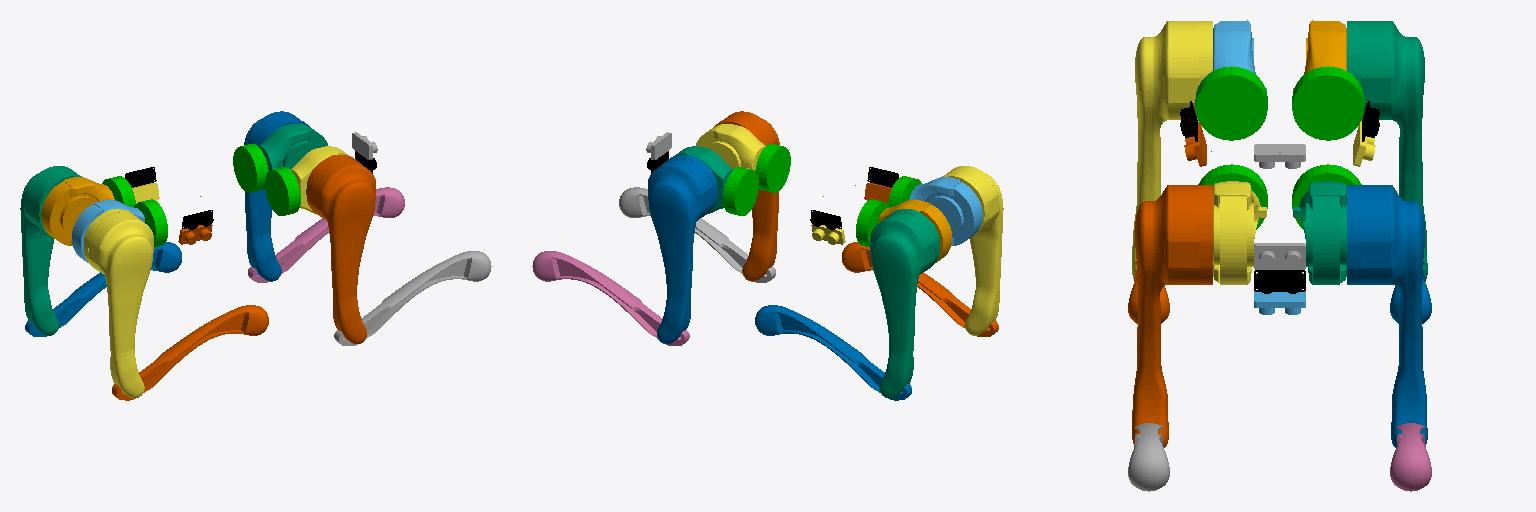
--- What the picture shows (computed from the rendered views, not written in the file) ---
3 views of the same robot in one strip: view 1: azimuth 30°, elevation 25°; view 2: azimuth 150°, elevation 25°; view 3: azimuth 270°, elevation 25° (orthographic).
Robot: go1 — 46 links, 45 joints (12 revolute, 33 fixed); root link base; default pose: all joints at 0 but 4 set to mid-range because 0 is outside their limits (FR_calf_joint = -1.85, FL_calf_joint = -1.85, RR_calf_joint = -1.85, RL_calf_joint = -1.85).
Visible links, largest first — view 1: RR_thigh, FR_thigh, RL_thigh, FL_thigh, RR_calf, FR_calf, RL_hip, FL_calf, RL_calf, FL_hip, FR_hip_rotor, FL_hip_rotor (+4 smaller); view 2: RL_thigh, FL_thigh, RR_thigh, FR_thigh, RL_calf, FL_calf, RR_hip, FR_calf, RR_calf, FR_hip, FL_hip_rotor, FR_hip_rotor (+4 smaller); view 3: FR_thigh, FL_thigh, RR_thigh, RL_thigh, FR_hip, FL_hip, RR_hip_rotor, RL_hip_rotor, FR_calf, FL_calf, RR_hip, RL_hip (+10 smaller).
Boxes of the visible links, x1,y1,x2,y2 form: RR_thigh: (84, 209, 153, 398); FR_thigh: (306, 155, 375, 343); RL_thigh: (20, 166, 81, 335); FL_thigh: (244, 111, 309, 281); RR_calf: (112, 305, 268, 400); FR_calf: (334, 251, 491, 345); RL_hip: (41, 177, 114, 245); FL_calf: (248, 187, 404, 282); RL_calf: (25, 242, 181, 336); FL_hip: (258, 124, 327, 170); FR_hip_rotor: (265, 167, 300, 215); FL_hip_rotor: (233, 144, 268, 192); RL_thigh: (870, 209, 939, 398); FL_thigh: (648, 155, 717, 343); RR_thigh: (942, 166, 1003, 335); FR_thigh: (714, 111, 779, 281); RL_calf: (755, 305, 911, 400); FL_calf: (532, 251, 689, 345); RR_hip: (909, 177, 982, 245); FR_calf: (619, 187, 775, 282); RR_calf: (842, 242, 998, 336); FR_hip: (696, 124, 765, 170); FL_hip_rotor: (723, 167, 758, 215); FR_hip_rotor: (755, 144, 790, 192); FR_thigh: (1132, 185, 1212, 447); FL_thigh: (1347, 185, 1427, 447); RR_thigh: (1132, 21, 1212, 278); RL_thigh: (1347, 21, 1427, 278); FR_hip: (1213, 181, 1266, 284); FL_hip: (1293, 181, 1346, 284); RR_hip_rotor: (1195, 66, 1267, 140); RL_hip_rotor: (1292, 66, 1364, 140); FR_calf: (1128, 423, 1169, 491); FL_calf: (1390, 423, 1431, 491); RR_hip: (1213, 20, 1266, 90); RL_hip: (1293, 20, 1346, 90).
Size in the robot's own frame: 0.6511 by 0.294 by 0.2796 metres.
Meshes: 7 distinct files referenced, 20 mesh visuals loaded (6 binary STL); not drawn: 1 (reference not matched to a file when rendering).

robot.urdf — go1:
<?xml version="1.0" ?>
<!-- =================================================================================== -->
<!-- |    This document was autogenerated by xacro from robot.xacro                    | -->
<!-- |    EDITING THIS FILE BY HAND IS NOT RECOMMENDED                                 | -->
<!-- =================================================================================== -->
<robot name="go1">
  <material name="black">
    <color rgba="0.0 0.0 0.0 1.0"/>
  </material>
  <material name="blue">
    <color rgba="0.0 0.0 0.8 1.0"/>
  </material>
  <material name="green">
    <color rgba="0.0 0.8 0.0 1.0"/>
  </material>
  <material name="grey">
    <color rgba="0.2 0.2 0.2 1.0"/>
  </material>
  <material name="silver">
    <color rgba="0.9137254901960784 0.9137254901960784 0.8470588235294118 1.0"/>
  </material>
  <material name="orange">
    <color rgba="1.0 0.4235294117647059 0.0392156862745098 1.0"/>
  </material>
  <material name="brown">
    <color rgba="0.8705882352941177 0.8117647058823529 0.7647058823529411 1.0"/>
  </material>
  <material name="red">
    <color rgba="0.8 0.0 0.0 1.0"/>
  </material>
  <material name="white">
    <color rgba="1.0 1.0 1.0 1.0"/>
  </material>
  <!-- ros_control plugin -->
  <gazebo>
    <plugin filename="libgazebo_ros_control.so" name="gazebo_ros_control">
      <robotNamespace>/go1_gazebo</robotNamespace>
      <robotSimType>gazebo_ros_control/DefaultRobotHWSim</robotSimType>
    </plugin>
  </gazebo>
  <!-- Show the trajectory of trunk center. -->
  <gazebo>
    <plugin filename="libLinkPlot3DPlugin.so" name="3dplot">
      <frequency>10</frequency>
      <plot>
        <link>base</link>
        <pose>0 0 0 0 0 0</pose>
        <material>Gazebo/Yellow</material>
      </plot>
    </plugin>
  </gazebo>
  <!-- Show the trajectory of foot. You can add another trajectory about another foot. -->
  <!-- <gazebo>
        <plugin name="3dplot" filename="libLinkPlot3DPlugin.so">
            <frequency>100</frequency>
            <plot>
                <link>FL_foot</link>
                <pose>0 0 0 0 0 0</pose>
                <material>Gazebo/Green</material>
            </plot>
        </plugin>
    </gazebo> -->
  <gazebo>
    <plugin filename="libgazebo_ros_force.so" name="gazebo_ros_force">
      <bodyName>trunk</bodyName>
      <topicName>/apply_force/trunk</topicName>
    </plugin>
  </gazebo>
  <gazebo reference="imu_link">
    <gravity>true</gravity>
    <sensor name="imu_sensor" type="imu">
      <always_on>true</always_on>
      <update_rate>1000</update_rate>
      <visualize>true</visualize>
      <topic>__default_topic__</topic>
      <plugin filename="libgazebo_ros_imu_sensor.so" name="imu_plugin">
        <topicName>trunk_imu</topicName>
        <bodyName>imu_link</bodyName>
        <updateRateHZ>1000.0</updateRateHZ>
        <gaussianNoise>0.0</gaussianNoise>
        <xyzOffset>0 0 0</xyzOffset>
        <rpyOffset>0 0 0</rpyOffset>
        <frameName>imu_link</frameName>
      </plugin>
      <pose>0 0 0 0 0 0</pose>
    </sensor>
  </gazebo>
  <!-- Depth camera -->
  <!-- <gazebo>
        <plugin name="camera_plugin" filename="libgazebo_ros_openni_kinect.so">
            <baseline>0.025</baseline>
            <always_on>true</always_on>
            <updateRate>0.0</updateRate>
            <cameraName>unitree_camera_left</cameraName>
            <frameName>depthCamera_link_left</frameName>
            <imageTopicName>rgb/imageRaw_left</imageTopicName>
            <depthImageTopicName>depth/imageRaw_left</depthImageTopicName>
            <pointCloudTopicName>depth/points_left</pointCloudTopicName>
            <cameraInfoTopicName>rgb/cameraInfo_left</cameraInfoTopicName>              
            <depthImageCameraInfoTopicName>depth/cameraInfo_left</depthImageCameraInfoTopicName>            
            <pointCloudCutoff>0.1</pointCloudCutoff>                
            <pointCloudCutoffMax>1.5</pointCloudCutoffMax>                
            <distortionK1>0.0</distortionK1>
            <distortionK2>0.0</distortionK2>
            <distortionK3>0.0</distortionK3>
            <distortionT1>0.0</distortionT1>
            <distortionT2>0.0</distortionT2>
            <CxPrime>0.0</CxPrime>
            <Cx>0.0045</Cx>
            <Cy>0.0039</Cy>
            <focalLength>0.004</focalLength>
            <hackBaseline>0.0</hackBaseline>
        </plugin>
    </gazebo> -->
  <!-- <gazebo reference="depthCamera_link_left">
        <sensor name="unitree_camera_left" type="depth_camera">
            <update_rate>16</update_rate>
            <always_on>true</always_on>
            <visualize>true</visualize>
            <camera>
                <horizontal_fov>2.094</horizontal_fov>
                <image>
                    <width>928</width>
                    <height>800</height>
                    <format>R8G8B8</format>
                </image>
                <depth_camera></depth_camera>
                <clip>
                    <near>0.1</near>
                    <far>100</far>
                </clip>
            </camera>
            <plugin name="camera_plugin" filename="libgazebo_ros_openni_kinect.so">
                <baseline>0.025</baseline>
                <always_on>true</always_on>
                <updateRate>0.0</updateRate>
                <cameraName>unitree_camera_left</cameraName>
                <frameName>depthCamera_link_left</frameName>
                <imageTopicName>rgb/imageRaw_left</imageTopicName>
                <depthImageTopicName>depth/imageRaw_left</depthImageTopicName>
                <pointCloudTopicName>depth/points_left</pointCloudTopicName>
                <cameraInfoTopicName>rgb/cameraInfo_left</cameraInfoTopicName>              
                <depthImageCameraInfoTopicName>depth/cameraInfo_left</depthImageCameraInfoTopicName>            
                <pointCloudCutoff>0.1</pointCloudCutoff>                
                <pointCloudCutoffMax>1.5</pointCloudCutoffMax>                
                <distortionK1>0.0</distortionK1>
                <distortionK2>0.0</distortionK2>
                <distortionK3>0.0</distortionK3>
                <distortionT1>0.0</distortionT1>
                <distortionT2>0.0</distortionT2>
                <CxPrime>0.0</CxPrime>
                <Cx>0.0045</Cx>
                <Cy>0.0039</Cy>
                <focalLength>0.004</focalLength>
                <hackBaseline>0.0</hackBaseline>
            </plugin>
        </sensor>
    </gazebo> -->
  <gazebo reference="depthCamera_link_left">
    <sensor name="camera_link_camera" type="depth">
      <update_rate>20</update_rate>
      <camera>
        <horizontal_fov>1.047198</horizontal_fov>
        <image>
          <width>640</width>
          <height>480</height>
          <format>R8G8B8</format>
        </image>
        <clip>
          <near>0.05</near>
          <far>3</far>
        </clip>
      </camera>
      <plugin filename="libgazebo_ros_openni_kinect.so" name="camera_link_controller">
        <baseline>0.2</baseline>
        <alwaysOn>true</alwaysOn>
        <updateRate>1.0</updateRate>
        <cameraName>camera_link_ir</cameraName>
        <imageTopicName>/camera_link/color/image_raw</imageTopicName>
        <cameraInfoTopicName>/camera_link/color/camera_info</cameraInfoTopicName>
        <depthImageTopicName>/camera_link/depth/image_raw</depthImageTopicName>
        <depthImageInfoTopicName>/camera_link/depth/camera_info</depthImageInfoTopicName>
        <pointCloudTopicName>/camera_link/depth/points</pointCloudTopicName>
        <frameName>depthCamera_link_left</frameName>
        <pointCloudCutoff>0.5</pointCloudCutoff>
        <pointCloudCutoffMax>3.0</pointCloudCutoffMax>
        <distortionK1>0.00000001</distortionK1>
        <distortionK2>0.00000001</distortionK2>
        <distortionK3>0.00000001</distortionK3>
        <distortionT1>0.00000001</distortionT1>
        <distortionT2>0.00000001</distortionT2>
        <CxPrime>0</CxPrime>
        <Cx>0</Cx>
        <Cy>0</Cy>
        <focalLength>0</focalLength>
        <hackBaseline>0</hackBaseline>
      </plugin>
    </sensor>
  </gazebo>
  <!-- Foot contacts. -->
  <gazebo reference="FR_calf">
    <sensor name="FR_foot_contact" type="contact">
      <update_rate>100</update_rate>
      <plugin filename="libunitreeFootContactPlugin.so" name="contactPlugin"/>
      <contact>
        <collision>FR_calf_fixed_joint_lump__FR_foot_collision_1</collision>
      </contact>
    </sensor>
  </gazebo>
  <gazebo reference="FL_calf">
    <sensor name="FL_foot_contact" type="contact">
      <update_rate>100</update_rate>
      <plugin filename="libunitreeFootContactPlugin.so" name="contactPlugin"/>
      <contact>
        <collision>FL_calf_fixed_joint_lump__FL_foot_collision_1</collision>
      </contact>
    </sensor>
  </gazebo>
  <gazebo reference="RR_calf">
    <sensor name="RR_foot_contact" type="contact">
      <update_rate>100</update_rate>
      <plugin filename="libunitreeFootContactPlugin.so" name="contactPlugin"/>
      <contact>
        <collision>RR_calf_fixed_joint_lump__RR_foot_collision_1</collision>
      </contact>
    </sensor>
  </gazebo>
  <gazebo reference="RL_calf">
    <sensor name="RL_foot_contact" type="contact">
      <update_rate>100</update_rate>
      <plugin filename="libunitreeFootContactPlugin.so" name="contactPlugin"/>
      <contact>
        <collision>RL_calf_fixed_joint_lump__RL_foot_collision_1</collision>
      </contact>
    </sensor>
  </gazebo>
  <!-- Visualization of Foot contacts. -->
  <gazebo reference="FR_foot">
    <visual>
      <plugin filename="libunitreeDrawForcePlugin.so" name="drawForcePlugin">
        <topicName>FR_foot_contact</topicName>
      </plugin>
    </visual>
  </gazebo>
  <gazebo reference="FL_foot">
    <visual>
      <plugin filename="libunitreeDrawForcePlugin.so" name="drawForcePlugin">
        <topicName>FL_foot_contact</topicName>
      </plugin>
    </visual>
  </gazebo>
  <gazebo reference="RR_foot">
    <visual>
      <plugin filename="libunitreeDrawForcePlugin.so" name="drawForcePlugin">
        <topicName>RR_foot_contact</topicName>
      </plugin>
    </visual>
  </gazebo>
  <gazebo reference="RL_foot">
    <visual>
      <plugin filename="libunitreeDrawForcePlugin.so" name="drawForcePlugin">
        <topicName>RL_foot_contact</topicName>
      </plugin>
    </visual>
  </gazebo>
  <gazebo reference="base">
    <material>Gazebo/Green</material>
    <turnGravityOff>false</turnGravityOff>
  </gazebo>
  <gazebo reference="trunk">
    <mu1>0.2</mu1>
    <mu2>0.2</mu2>
    <kp value="1000000.0"/>
    <kd value="1.0"/>
  </gazebo>
  <gazebo reference="stick_link">
    <mu1>0.2</mu1>
    <mu2>0.2</mu2>
    <material>Gazebo/White</material>
  </gazebo>
  <gazebo reference="imu_link">
    <mu1>0.2</mu1>
    <mu2>0.2</mu2>
    <material>Gazebo/Red</material>
  </gazebo>
  <!-- FL leg -->
  <gazebo reference="FL_hip">
    <mu1>0.2</mu1>
    <mu2>0.2</mu2>
    <material>Gazebo/DarkGrey</material>
  </gazebo>
  <gazebo reference="FL_thigh">
    <mu1>0.2</mu1>
    <mu2>0.2</mu2>
    <self_collide>1</self_collide>
    <material>Gazebo/DarkGrey</material>
    <kp value="1000000.0"/>
    <kd value="1.0"/>
  </gazebo>
  <gazebo reference="FL_calf">
    <mu1>0.2</mu1>
    <mu2>0.2</mu2>
    <self_collide>1</self_collide>
  </gazebo>
  <gazebo reference="FL_foot">
    <mu1>0.6</mu1>
    <mu2>0.6</mu2>
    <self_collide>1</self_collide>
    <material>Gazebo/DarkGrey</material>
    <kp value="1000000.0"/>
    <kd value="1.0"/>
  </gazebo>
  <!-- FR leg -->
  <gazebo reference="FR_hip">
    <mu1>0.2</mu1>
    <mu2>0.2</mu2>
    <material>Gazebo/DarkGrey</material>
  </gazebo>
  <gazebo reference="FR_thigh">
    <mu1>0.2</mu1>
    <mu2>0.2</mu2>
    <self_collide>1</self_collide>
    <material>Gazebo/DarkGrey</material>
    <kp value="1000000.0"/>
    <kd value="1.0"/>
  </gazebo>
  <gazebo reference="FR_calf">
    <mu1>0.2</mu1>
    <mu2>0.2</mu2>
    <self_collide>1</self_collide>
  </gazebo>
  <gazebo reference="FR_foot">
    <mu1>0.6</mu1>
    <mu2>0.6</mu2>
    <self_collide>1</self_collide>
    <material>Gazebo/DarkGrey</material>
    <kp value="1000000.0"/>
    <kd value="1.0"/>
  </gazebo>
  <!-- RL leg -->
  <gazebo reference="RL_hip">
    <mu1>0.2</mu1>
    <mu2>0.2</mu2>
    <material>Gazebo/DarkGrey</material>
  </gazebo>
  <gazebo reference="RL_thigh">
    <mu1>0.2</mu1>
    <mu2>0.2</mu2>
    <self_collide>1</self_collide>
    <material>Gazebo/DarkGrey</material>
    <kp value="1000000.0"/>
    <kd value="1.0"/>
  </gazebo>
  <gazebo reference="RL_calf">
    <mu1>0.2</mu1>
    <mu2>0.2</mu2>
    <self_collide>1</self_collide>
  </gazebo>
  <gazebo reference="RL_foot">
    <mu1>0.6</mu1>
    <mu2>0.6</mu2>
    <self_collide>1</self_collide>
    <material>Gazebo/DarkGrey</material>
    <kp value="1000000.0"/>
    <kd value="1.0"/>
  </gazebo>
  <!-- RR leg -->
  <gazebo reference="RR_hip">
    <mu1>0.2</mu1>
    <mu2>0.2</mu2>
    <material>Gazebo/DarkGrey</material>
  </gazebo>
  <gazebo reference="RR_thigh">
    <mu1>0.2</mu1>
    <mu2>0.2</mu2>
    <self_collide>1</self_collide>
    <material>Gazebo/DarkGrey</material>
    <kp value="1000000.0"/>
    <kd value="1.0"/>
  </gazebo>
  <gazebo reference="RR_calf">
    <mu1>0.2</mu1>
    <mu2>0.2</mu2>
    <self_collide>1</self_collide>
  </gazebo>
  <gazebo reference="RR_foot">
    <mu1>0.6</mu1>
    <mu2>0.6</mu2>
    <self_collide>1</self_collide>
    <material>Gazebo/DarkGrey</material>
    <kp value="1000000.0"/>
    <kd value="1.0"/>
  </gazebo>
  <!-- <xacro:include filename="$(find go1_gazebo)/launch/stairs.urdf.xacro"/> -->
  <!-- <xacro:stairs stairs="15" xpos="0" ypos="0" zpos="0" /> -->
  <!-- Rotor related joint and link is only for demonstrate location. -->
  <!-- Actually, the rotor will rotate and the joint is not fixed. Reduction ratio should be considered. -->
  <!-- Debug mode will hung up the robot, use "true" or "false" to switch it. -->
  <!-- <xacro:if value="$(arg DEBUG)">
        <link name="world"/>
        <joint name="base_static_joint" type="fixed">
            <origin rpy="0 0 0" xyz="0 0 0"/>
            <parent link="world"/>
            <child link="base"/>
        </joint>
    </xacro:if>  -->
  <link name="base">
    <visual>
      <origin rpy="0 0 0" xyz="0 0 0"/>
      <geometry>
        <box size="0.001 0.001 0.001"/>
      </geometry>
    </visual>
  </link>
  <joint name="floating_base" type="fixed">
    <origin rpy="0 0 0" xyz="0 0 0"/>
    <parent link="base"/>
    <child link="trunk"/>
  </joint>
  <link name="trunk">
    <visual>
      <origin rpy="0 0 0" xyz="0 0 0"/>
      <geometry>
        <mesh filename="package://GO1/meshes/trunk.stl" scale="1 1 1"/>
      </geometry>
      <!-- <material name="orange"/> -->
    </visual>
    <collision>
      <origin rpy="0 0 0" xyz="0 0 0"/>
      <geometry>
        <box size="0.3762 0.0935 0.114"/>
      </geometry>
    </collision>
    <inertial>
      <origin rpy="0 0 0" xyz="0.0223 0.002 -0.0005"/>
      <mass value="5.204"/>
      <inertia ixx="0.0168128557" ixy="-0.0002296769" ixz="-0.0002945293" iyy="0.063009565" iyz="-4.18731e-05" izz="0.0716547275"/>
    </inertial>
  </link>
  <joint name="imu_joint" type="fixed">
    <parent link="trunk"/>
    <child link="imu_link"/>
    <origin rpy="0 0 0" xyz="-0.01592 -0.06659 -0.00617"/>
  </joint>
  <link name="imu_link">
    <inertial>
      <mass value="0.001"/>
      <origin rpy="0 0 0" xyz="0 0 0"/>
      <inertia ixx="0.0001" ixy="0" ixz="0" iyy="0.0001" iyz="0" izz="0.0001"/>
    </inertial>
    <visual>
      <origin rpy="0 0 0" xyz="0 0 0"/>
      <geometry>
        <box size="0.001 0.001 0.001"/>
      </geometry>
      <!-- <material name="red"/> -->
    </visual>
    <collision>
      <origin rpy="0 0 0" xyz="0 0 0"/>
      <geometry>
        <box size=".001 .001 .001"/>
      </geometry>
    </collision>
  </link>
  <joint name="FR_hip_joint" type="revolute">
    <origin rpy="0 0 0" xyz="0.1881 -0.04675 0"/>
    <parent link="trunk"/>
    <child link="FR_hip"/>
    <axis xyz="1 0 0"/>
    <dynamics damping="0.0" friction="0.0"/>
    <limit effort="23.7" lower="-0.863" upper="0.863" velocity="30.1"/>
  </joint>
  <joint name="FR_hip_rotor_joint" type="fixed">
    <origin rpy="0 0 0" xyz="0.11215 -0.04675 0"/>
    <parent link="trunk"/>
    <child link="FR_hip_rotor"/>
  </joint>
  <link name="FR_hip">
    <visual>
      <origin rpy="3.141592653589793 0 0" xyz="0 0 0"/>
      <geometry>
        <mesh filename="package://GO1/meshes/hip.stl" scale="1 1 1"/>
      </geometry>
      <!-- <material name="orange"/> -->
    </visual>
    <collision>
      <origin rpy="1.5707963267948966 0 0" xyz="0 -0.08 0"/>
      <geometry>
        <cylinder length="0.04" radius="0.046"/>
      </geometry>
    </collision>
    <inertial>
      <origin rpy="0 0 0" xyz="-0.005657 0.008752 -0.000102"/>
      <mass value="0.591"/>
      <inertia ixx="0.000334008405" ixy="1.0826066e-05" ixz="1.290732e-06" iyy="0.000619101213" iyz="-1.643194e-06" izz="0.00040057614"/>
    </inertial>
  </link>
  <link name="FR_hip_rotor">
    <visual>
      <origin rpy="0 1.5707963267948966 0" xyz="0 0 0"/>
      <geometry>
        <cylinder length="0.02" radius="0.035"/>
      </geometry>
      <material name="green"/>
    </visual>
    <collision>
      <origin rpy="0 1.5707963267948966 0" xyz="0 0 0"/>
      <geometry>
        <cylinder length="0.02" radius="0.035"/>
      </geometry>
    </collision>
    <inertial>
      <origin rpy="0 0 0" xyz="0.0 0.0 0.0"/>
      <mass value="0.089"/>
      <inertia ixx="0.000111842" ixy="0.0" ixz="0.0" iyy="5.9647e-05" iyz="0.0" izz="5.9647e-05"/>
    </inertial>
  </link>
  <joint name="FR_thigh_joint" type="revolute">
    <origin rpy="0 0 0" xyz="0 -0.08 0"/>
    <parent link="FR_hip"/>
    <child link="FR_thigh"/>
    <axis xyz="0 1 0"/>
    <dynamics damping="0.0" friction="0.0"/>
    <limit effort="23.7" lower="-0.686" upper="4.501" velocity="30.1"/>
  </joint>
  <joint name="FR_thigh_rotor_joint" type="fixed">
    <origin rpy="0 0 0" xyz="0.0 0.00015 0"/>
    <parent link="FR_hip"/>
    <child link="FR_thigh_rotor"/>
  </joint>
  <link name="FR_thigh">
    <visual>
      <origin rpy="0 0 0" xyz="0 0 0"/>
      <geometry>
        <mesh filename="package://GO1/meshes/thigh_mirror.stl" scale="1 1 1"/>
      </geometry>
      <!-- <material name="orange"/> -->
    </visual>
    <collision>
      <origin rpy="0 1.5707963267948966 0" xyz="0 0 -0.1065"/>
      <geometry>
        <box size="0.213 0.0245 0.034"/>
      </geometry>
    </collision>
    <inertial>
      <origin rpy="0 0 0" xyz="-0.003342 0.018054 -0.033451"/>
      <mass value="0.92"/>
      <inertia ixx="0.004431760472" ixy="-5.7496807e-05" ixz="-0.000218457134" iyy="0.004485671726" iyz="-0.000572001265" izz="0.000740309489"/>
    </inertial>
  </link>
  <link name="FR_thigh_rotor">
    <visual>
      <origin rpy="1.5707963267948966 0 0" xyz="0 0 0"/>
      <geometry>
        <cylinder length="0.02" radius="0.035"/>
      </geometry>
      <material name="green"/>
    </visual>
    <collision>
      <origin rpy="1.5707963267948966 0 0" xyz="0 0 0"/>
      <geometry>
        <cylinder length="0.02" radius="0.035"/>
      </geometry>
    </collision>
    <inertial>
      <origin rpy="0 0 0" xyz="0.0 0.0 0.0"/>
      <mass value="0.089"/>
      <inertia ixx="5.9647e-05" ixy="0.0" ixz="0.0" iyy="0.000111842" iyz="0.0" izz="5.9647e-05"/>
    </inertial>
  </link>
  <joint name="FR_calf_joint" type="revolute">
    <origin rpy="0 0 0" xyz="0 0 -0.213"/>
    <parent link="FR_thigh"/>
    <child link="FR_calf"/>
    <axis xyz="0 1 0"/>
    <dynamics damping="0.0" friction="0.0"/>
    <limit effort="35.55" lower="-2.818" upper="-0.888" velocity="20.06"/>
  </joint>
  <joint name="FR_calf_rotor_joint" type="fixed">
    <origin rpy="0 0 0" xyz="0.0 0.03235 0"/>
    <parent link="FR_thigh"/>
    <child link="FR_calf_rotor"/>
  </joint>
  <link name="FR_calf">
    <visual>
      <origin rpy="0 0 0" xyz="0 0 0"/>
      <geometry>
        <mesh filename="package://GO1/meshes/calf.stl" scale="1 1 1"/>
      </geometry>
      <!-- <material name="orange"/> -->
    </visual>
    <collision>
      <origin rpy="0 1.5707963267948966 0" xyz="0 0 -0.1065"/>
      <geometry>
        <box size="0.213 0.016 0.016"/>
      </geometry>
    </collision>
    <inertial>
      <origin rpy="0 0 0" xyz="0.006197 0.001408 -0.116695"/>
      <mass value="0.135862"/>
      <inertia ixx="0.001088793059" ixy="-2.55679e-07" ixz="7.117814e-06" iyy="0.001100428748" iyz="2.077264e-06" izz="2.4787446e-05"/>
    </inertial>
  </link>
  <link name="FR_calf_rotor">
    <visual>
      <origin rpy="1.5707963267948966 0 0" xyz="0 0 0"/>
      <geometry>
        <cylinder length="0.02" radius="0.035"/>
      </geometry>
      <material name="green"/>
    </visual>
    <collision>
      <origin rpy="1.5707963267948966 0 0" xyz="0 0 0"/>
      <geometry>
        <cylinder length="0.02" radius="0.035"/>
      </geometry>
    </collision>
    <inertial>
      <origin rpy="0 0 0" xyz="0.0 0.0 0.0"/>
      <mass value="0.089"/>
      <inertia ixx="5.9647e-05" ixy="0.0" ixz="0.0" iyy="0.000111842" iyz="0.0" izz="5.9647e-05"/>
    </inertial>
  </link>
  <joint name="FR_foot_fixed" type="fixed">
    <origin rpy="0 0 0" xyz="0 0 -0.213"/>
    <parent link="FR_calf"/>
    <child link="FR_foot"/>
  </joint>
  <link name="FR_foot">
    <visual>
      <origin rpy="0 0 0" xyz="0 0 0"/>
      <geometry>
        <sphere radius="0.01"/>
      </geometry>
      <!-- <material name="orange"/> -->
    </visual>
    <collision>
      <origin rpy="0 0 0" xyz="0 0 0"/>
      <geometry>
        <sphere radius="0.02"/>
      </geometry>
    </collision>
    <inertial>
      <mass value="0.06"/>
      <inertia ixx="9.600000000000001e-06" ixy="0.0" ixz="0.0" iyy="9.600000000000001e-06" iyz="0.0" izz="9.600000000000001e-06"/>
    </inertial>
  </link>
  <transmission name="FR_hip_tran">
    <type>transmission_interface/SimpleTransmission</type>
    <joint name="FR_hip_joint">
      <hardwareInterface>hardware_interface/EffortJointInterface</hardwareInterface>
    </joint>
    <actuator name="FR_hip_motor">
      <hardwareInterface>hardware_interface/EffortJointInterface</hardwareInterface>
      <mechanicalReduction>1</mechanicalReduction>
    </actuator>
  </transmission>
  <transmission name="FR_thigh_tran">
    <type>transmission_interface/SimpleTransmission</type>
    <joint name="FR_thigh_joint">
      <hardwareInterface>hardware_interface/EffortJointInterface</hardwareInterface>
    </joint>
    <actuator name="FR_thigh_motor">
      <hardwareInterface>hardware_interface/EffortJointInterface</hardwareInterface>
      <mechanicalReduction>1</mechanicalReduction>
    </actuator>
  </transmission>
  <transmission name="FR_calf_tran">
    <type>transmission_interface/SimpleTransmission</type>
    <joint name="FR_calf_joint">
      <hardwareInterface>hardware_interface/EffortJointInterface</hardwareInterface>
    </joint>
    <actuator name="FR_calf_motor">
      <hardwareInterface>hardware_interface/EffortJointInterface</hardwareInterface>
      <mechanicalReduction>1</mechanicalReduction>
    </actuator>
  </transmission>
  <joint name="FL_hip_joint" type="revolute">
    <origin rpy="0 0 0" xyz="0.1881 0.04675 0"/>
    <parent link="trunk"/>
    <child link="FL_hip"/>
    <axis xyz="1 0 0"/>
    <dynamics damping="0.0" friction="0.0"/>
    <limit effort="23.7" lower="-0.863" upper="0.863" velocity="30.1"/>
  </joint>
  <joint name="FL_hip_rotor_joint" type="fixed">
    <origin rpy="0 0 0" xyz="0.11215 0.04675 0"/>
    <parent link="trunk"/>
    <child link="FL_hip_rotor"/>
  </joint>
  <link name="FL_hip">
    <visual>
      <origin rpy="0 0 0" xyz="0 0 0"/>
      <geometry>
        <mesh filename="package://GO1/meshes/hip.stl" scale="1 1 1"/>
      </geometry>
      <!-- <material name="orange"/> -->
    </visual>
    <collision>
      <origin rpy="1.5707963267948966 0 0" xyz="0 0.08 0"/>
      <geometry>
        <cylinder length="0.04" radius="0.046"/>
      </geometry>
    </collision>
    <inertial>
      <origin rpy="0 0 0" xyz="-0.005657 -0.008752 -0.000102"/>
      <mass value="0.591"/>
      <inertia ixx="0.000334008405" ixy="-1.0826066e-05" ixz="1.290732e-06" iyy="0.000619101213" iyz="1.643194e-06" izz="0.00040057614"/>
    </inertial>
  </link>
  <link name="FL_hip_rotor">
    <visual>
      <origin rpy="0 1.5707963267948966 0" xyz="0 0 0"/>
      <geometry>
        <cylinder length="0.02" radius="0.035"/>
      </geometry>
      <material name="green"/>
    </visual>
    <collision>
      <origin rpy="0 1.5707963267948966 0" xyz="0 0 0"/>
      <geometry>
        <cylinder length="0.02" radius="0.035"/>
      </geometry>
    </collision>
    <inertial>
      <origin rpy="0 0 0" xyz="0.0 0.0 0.0"/>
      <mass value="0.089"/>
      <inertia ixx="0.000111842" ixy="0.0" ixz="0.0" iyy="5.9647e-05" iyz="0.0" izz="5.9647e-05"/>
    </inertial>
  </link>
  <joint name="FL_thigh_joint" type="revolute">
    <origin rpy="0 0 0" xyz="0 0.08 0"/>
    <parent link="FL_hip"/>
    <child link="FL_thigh"/>
    <axis xyz="0 1 0"/>
    <dynamics damping="0.0" friction="0.0"/>
    <limit effort="23.7" lower="-0.686" upper="4.501" velocity="30.1"/>
  </joint>
  <joint name="FL_thigh_rotor_joint" type="fixed">
    <origin rpy="0 0 0" xyz="0.0 -0.00015 0"/>
    <parent link="FL_hip"/>
    <child link="FL_thigh_rotor"/>
  </joint>
  <link name="FL_thigh">
    <visual>
      <origin rpy="0 0 0" xyz="0 0 0"/>
      <geometry>
        <mesh filename="package://GO1/meshes/thigh.stl" scale="1 1 1"/>
      </geometry>
      <!-- <material name="orange"/> -->
    </visual>
    <collision>
      <origin rpy="0 1.5707963267948966 0" xyz="0 0 -0.1065"/>
      <geometry>
        <box size="0.213 0.0245 0.034"/>
      </geometry>
    </collision>
    <inertial>
      <origin rpy="0 0 0" xyz="-0.003342 -0.018054 -0.033451"/>
      <mass value="0.92"/>
      <inertia ixx="0.004431760472" ixy="5.7496807e-05" ixz="-0.000218457134" iyy="0.004485671726" iyz="0.000572001265" izz="0.000740309489"/>
    </inertial>
  </link>
  <link name="FL_thigh_rotor">
    <visual>
      <origin rpy="1.5707963267948966 0 0" xyz="0 0 0"/>
      <geometry>
        <cylinder length="0.02" radius="0.035"/>
      </geometry>
      <material name="green"/>
    </visual>
    <collision>
      <origin rpy="1.5707963267948966 0 0" xyz="0 0 0"/>
      <geometry>
        <cylinder length="0.02" radius="0.035"/>
      </geometry>
    </collision>
    <inertial>
      <origin rpy="0 0 0" xyz="0.0 0.0 0.0"/>
      <mass value="0.089"/>
      <inertia ixx="5.9647e-05" ixy="0.0" ixz="0.0" iyy="0.000111842" iyz="0.0" izz="5.9647e-05"/>
    </inertial>
  </link>
  <joint name="FL_calf_joint" type="revolute">
    <origin rpy="0 0 0" xyz="0 0 -0.213"/>
    <parent link="FL_thigh"/>
    <child link="FL_calf"/>
    <axis xyz="0 1 0"/>
    <dynamics damping="0.0" friction="0.0"/>
    <limit effort="35.55" lower="-2.818" upper="-0.888" velocity="20.06"/>
  </joint>
  <joint name="FL_calf_rotor_joint" type="fixed">
    <origin rpy="0 0 0" xyz="0.0 -0.03235 0"/>
    <parent link="FL_thigh"/>
    <child link="FL_calf_rotor"/>
  </joint>
  <link name="FL_calf">
    <visual>
      <origin rpy="0 0 0" xyz="0 0 0"/>
      <geometry>
        <mesh filename="package://GO1/meshes/calf.stl" scale="1 1 1"/>
      </geometry>
      <!-- <material name="orange"/> -->
    </visual>
    <collision>
      <origin rpy="0 1.5707963267948966 0" xyz="0 0 -0.1065"/>
      <geometry>
        <box size="0.213 0.016 0.016"/>
      </geometry>
    </collision>
    <inertial>
      <origin rpy="0 0 0" xyz="0.006197 0.001408 -0.116695"/>
      <mass value="0.135862"/>
      <inertia ixx="0.001088793059" ixy="-2.55679e-07" ixz="7.117814e-06" iyy="0.001100428748" iyz="2.077264e-06" izz="2.4787446e-05"/>
    </inertial>
  </link>
  <link name="FL_calf_rotor">
    <visual>
      <origin rpy="1.5707963267948966 0 0" xyz="0 0 0"/>
      <geometry>
        <cylinder length="0.02" radius="0.035"/>
      </geometry>
      <material name="green"/>
    </visual>
    <collision>
      <origin rpy="1.5707963267948966 0 0" xyz="0 0 0"/>
      <geometry>
        <cylinder length="0.02" radius="0.035"/>
      </geometry>
    </collision>
    <inertial>
      <origin rpy="0 0 0" xyz="0.0 0.0 0.0"/>
      <mass value="0.089"/>
      <inertia ixx="5.9647e-05" ixy="0.0" ixz="0.0" iyy="0.000111842" iyz="0.0" izz="5.9647e-05"/>
    </inertial>
  </link>
  <joint name="FL_foot_fixed" type="fixed">
    <origin rpy="0 0 0" xyz="0 0 -0.213"/>
    <parent link="FL_calf"/>
    <child link="FL_foot"/>
  </joint>
  <link name="FL_foot">
    <visual>
      <origin rpy="0 0 0" xyz="0 0 0"/>
      <geometry>
        <sphere radius="0.01"/>
      </geometry>
      <!-- <material name="orange"/> -->
    </visual>
    <collision>
      <origin rpy="0 0 0" xyz="0 0 0"/>
      <geometry>
        <sphere radius="0.02"/>
      </geometry>
    </collision>
    <inertial>
      <mass value="0.06"/>
      <inertia ixx="9.600000000000001e-06" ixy="0.0" ixz="0.0" iyy="9.600000000000001e-06" iyz="0.0" izz="9.600000000000001e-06"/>
    </inertial>
  </link>
  <transmission name="FL_hip_tran">
    <type>transmission_interface/SimpleTransmission</type>
    <joint name="FL_hip_joint">
      <hardwareInterface>hardware_interface/EffortJointInterface</hardwareInterface>
    </joint>
    <actuator name="FL_hip_motor">
      <hardwareInterface>hardware_interface/EffortJointInterface</hardwareInterface>
      <mechanicalReduction>1</mechanicalReduction>
    </actuator>
  </transmission>
  <transmission name="FL_thigh_tran">
    <type>transmission_interface/SimpleTransmission</type>
    <joint name="FL_thigh_joint">
      <hardwareInterface>hardware_interface/EffortJointInterface</hardwareInterface>
    </joint>
    <actuator name="FL_thigh_motor">
      <hardwareInterface>hardware_interface/EffortJointInterface</hardwareInterface>
      <mechanicalReduction>1</mechanicalReduction>
    </actuator>
  </transmission>
  <transmission name="FL_calf_tran">
    <type>transmission_interface/SimpleTransmission</type>
    <joint name="FL_calf_joint">
      <hardwareInterface>hardware_interface/EffortJointInterface</hardwareInterface>
    </joint>
    <actuator name="FL_calf_motor">
      <hardwareInterface>hardware_interface/EffortJointInterface</hardwareInterface>
      <mechanicalReduction>1</mechanicalReduction>
    </actuator>
  </transmission>
  <joint name="RR_hip_joint" type="revolute">
    <origin rpy="0 0 0" xyz="-0.1881 -0.04675 0"/>
    <parent link="trunk"/>
    <child link="RR_hip"/>
    <axis xyz="1 0 0"/>
    <dynamics damping="0.0" friction="0.0"/>
    <limit effort="23.7" lower="-0.863" upper="0.863" velocity="30.1"/>
  </joint>
  <joint name="RR_hip_rotor_joint" type="fixed">
    <origin rpy="0 0 0" xyz="-0.11215 -0.04675 0"/>
    <parent link="trunk"/>
    <child link="RR_hip_rotor"/>
  </joint>
  <link name="RR_hip">
    <visual>
      <origin rpy="3.141592653589793 3.141592653589793 0" xyz="0 0 0"/>
      <geometry>
        <mesh filename="package://GO1/meshes/hip.stl" scale="1 1 1"/>
      </geometry>
      <!-- <material name="orange"/> -->
    </visual>
    <collision>
      <origin rpy="1.5707963267948966 0 0" xyz="0 -0.08 0"/>
      <geometry>
        <cylinder length="0.04" radius="0.046"/>
      </geometry>
    </collision>
    <inertial>
      <origin rpy="0 0 0" xyz="0.005657 0.008752 -0.000102"/>
      <mass value="0.591"/>
      <inertia ixx="0.000334008405" ixy="-1.0826066e-05" ixz="-1.290732e-06" iyy="0.000619101213" iyz="-1.643194e-06" izz="0.00040057614"/>
    </inertial>
  </link>
  <link name="RR_hip_rotor">
    <visual>
      <origin rpy="0 1.5707963267948966 0" xyz="0 0 0"/>
      <geometry>
        <cylinder length="0.02" radius="0.035"/>
      </geometry>
      <material name="green"/>
    </visual>
    <collision>
      <origin rpy="0 1.5707963267948966 0" xyz="0 0 0"/>
      <geometry>
        <cylinder length="0.02" radius="0.035"/>
      </geometry>
    </collision>
    <inertial>
      <origin rpy="0 0 0" xyz="0.0 0.0 0.0"/>
      <mass value="0.089"/>
      <inertia ixx="0.000111842" ixy="0.0" ixz="0.0" iyy="5.9647e-05" iyz="0.0" izz="5.9647e-05"/>
    </inertial>
  </link>
  <joint name="RR_thigh_joint" type="revolute">
    <origin rpy="0 0 0" xyz="0 -0.08 0"/>
    <parent link="RR_hip"/>
    <child link="RR_thigh"/>
    <axis xyz="0 1 0"/>
    <dynamics damping="0.0" friction="0.0"/>
    <limit effort="23.7" lower="-0.686" upper="4.501" velocity="30.1"/>
  </joint>
  <joint name="RR_thigh_rotor_joint" type="fixed">
    <origin rpy="0 0 0" xyz="0.0 0.00015 0"/>
    <parent link="RR_hip"/>
    <child link="RR_thigh_rotor"/>
  </joint>
  <link name="RR_thigh">
    <visual>
      <origin rpy="0 0 0" xyz="0 0 0"/>
      <geometry>
        <mesh filename="package://GO1/meshes/thigh_mirror.stl" scale="1 1 1"/>
      </geometry>
      <!-- <material name="orange"/> -->
    </visual>
    <collision>
      <origin rpy="0 1.5707963267948966 0" xyz="0 0 -0.1065"/>
      <geometry>
        <box size="0.213 0.0245 0.034"/>
      </geometry>
    </collision>
    <inertial>
      <origin rpy="0 0 0" xyz="-0.003342 0.018054 -0.033451"/>
      <mass value="0.92"/>
      <inertia ixx="0.004431760472" ixy="-5.7496807e-05" ixz="-0.000218457134" iyy="0.004485671726" iyz="-0.000572001265" izz="0.000740309489"/>
    </inertial>
  </link>
  <link name="RR_thigh_rotor">
    <visual>
      <origin rpy="1.5707963267948966 0 0" xyz="0 0 0"/>
      <geometry>
        <cylinder length="0.02" radius="0.035"/>
      </geometry>
      <material name="green"/>
    </visual>
    <collision>
      <origin rpy="1.5707963267948966 0 0" xyz="0 0 0"/>
      <geometry>
        <cylinder length="0.02" radius="0.035"/>
      </geometry>
    </collision>
    <inertial>
      <origin rpy="0 0 0" xyz="0.0 0.0 0.0"/>
      <mass value="0.089"/>
      <inertia ixx="5.9647e-05" ixy="0.0" ixz="0.0" iyy="0.000111842" iyz="0.0" izz="5.9647e-05"/>
    </inertial>
  </link>
  <joint name="RR_calf_joint" type="revolute">
    <origin rpy="0 0 0" xyz="0 0 -0.213"/>
    <parent link="RR_thigh"/>
    <child link="RR_calf"/>
    <axis xyz="0 1 0"/>
    <dynamics damping="0.0" friction="0.0"/>
    <limit effort="35.55" lower="-2.818" upper="-0.888" velocity="20.06"/>
  </joint>
  <joint name="RR_calf_rotor_joint" type="fixed">
    <origin rpy="0 0 0" xyz="0.0 0.03235 0"/>
    <parent link="RR_thigh"/>
    <child link="RR_calf_rotor"/>
  </joint>
  <link name="RR_calf">
    <visual>
      <origin rpy="0 0 0" xyz="0 0 0"/>
      <geometry>
        <mesh filename="package://GO1/meshes/calf.stl" scale="1 1 1"/>
      </geometry>
      <!-- <material name="orange"/> -->
    </visual>
    <collision>
      <origin rpy="0 1.5707963267948966 0" xyz="0 0 -0.1065"/>
      <geometry>
        <box size="0.213 0.016 0.016"/>
      </geometry>
    </collision>
    <inertial>
      <origin rpy="0 0 0" xyz="0.006197 0.001408 -0.116695"/>
      <mass value="0.135862"/>
      <inertia ixx="0.001088793059" ixy="-2.55679e-07" ixz="7.117814e-06" iyy="0.001100428748" iyz="2.077264e-06" izz="2.4787446e-05"/>
    </inertial>
  </link>
  <link name="RR_calf_rotor">
    <visual>
      <origin rpy="1.5707963267948966 0 0" xyz="0 0 0"/>
      <geometry>
        <cylinder length="0.02" radius="0.035"/>
      </geometry>
      <material name="green"/>
    </visual>
    <collision>
      <origin rpy="1.5707963267948966 0 0" xyz="0 0 0"/>
      <geometry>
        <cylinder length="0.02" radius="0.035"/>
      </geometry>
    </collision>
    <inertial>
      <origin rpy="0 0 0" xyz="0.0 0.0 0.0"/>
      <mass value="0.089"/>
      <inertia ixx="5.9647e-05" ixy="0.0" ixz="0.0" iyy="0.000111842" iyz="0.0" izz="5.9647e-05"/>
    </inertial>
  </link>
  <joint name="RR_foot_fixed" type="fixed">
    <origin rpy="0 0 0" xyz="0 0 -0.213"/>
    <parent link="RR_calf"/>
    <child link="RR_foot"/>
  </joint>
  <link name="RR_foot">
    <visual>
      <origin rpy="0 0 0" xyz="0 0 0"/>
      <geometry>
        <sphere radius="0.01"/>
      </geometry>
      <!-- <material name="orange"/> -->
    </visual>
    <collision>
      <origin rpy="0 0 0" xyz="0 0 0"/>
      <geometry>
        <sphere radius="0.02"/>
      </geometry>
    </collision>
    <inertial>
      <mass value="0.06"/>
      <inertia ixx="9.600000000000001e-06" ixy="0.0" ixz="0.0" iyy="9.600000000000001e-06" iyz="0.0" izz="9.600000000000001e-06"/>
    </inertial>
  </link>
  <transmission name="RR_hip_tran">
    <type>transmission_interface/SimpleTransmission</type>
    <joint name="RR_hip_joint">
      <hardwareInterface>hardware_interface/EffortJointInterface</hardwareInterface>
    </joint>
    <actuator name="RR_hip_motor">
      <hardwareInterface>hardware_interface/EffortJointInterface</hardwareInterface>
      <mechanicalReduction>1</mechanicalReduction>
    </actuator>
  </transmission>
  <transmission name="RR_thigh_tran">
    <type>transmission_interface/SimpleTransmission</type>
    <joint name="RR_thigh_joint">
      <hardwareInterface>hardware_interface/EffortJointInterface</hardwareInterface>
    </joint>
    <actuator name="RR_thigh_motor">
      <hardwareInterface>hardware_interface/EffortJointInterface</hardwareInterface>
      <mechanicalReduction>1</mechanicalReduction>
    </actuator>
  </transmission>
  <transmission name="RR_calf_tran">
    <type>transmission_interface/SimpleTransmission</type>
    <joint name="RR_calf_joint">
      <hardwareInterface>hardware_interface/EffortJointInterface</hardwareInterface>
    </joint>
    <actuator name="RR_calf_motor">
      <hardwareInterface>hardware_interface/EffortJointInterface</hardwareInterface>
      <mechanicalReduction>1</mechanicalReduction>
    </actuator>
  </transmission>
  <joint name="RL_hip_joint" type="revolute">
    <origin rpy="0 0 0" xyz="-0.1881 0.04675 0"/>
    <parent link="trunk"/>
    <child link="RL_hip"/>
    <axis xyz="1 0 0"/>
    <dynamics damping="0.0" friction="0.0"/>
    <limit effort="23.7" lower="-0.863" upper="0.863" velocity="30.1"/>
  </joint>
  <joint name="RL_hip_rotor_joint" type="fixed">
    <origin rpy="0 0 0" xyz="-0.11215 0.04675 0"/>
    <parent link="trunk"/>
    <child link="RL_hip_rotor"/>
  </joint>
  <link name="RL_hip">
    <visual>
      <origin rpy="0 3.141592653589793 0" xyz="0 0 0"/>
      <geometry>
        <mesh filename="package://GO1/meshes/hip.stl" scale="1 1 1"/>
      </geometry>
      <!-- <material name="orange"/> -->
    </visual>
    <collision>
      <origin rpy="1.5707963267948966 0 0" xyz="0 0.08 0"/>
      <geometry>
        <cylinder length="0.04" radius="0.046"/>
      </geometry>
    </collision>
    <inertial>
      <origin rpy="0 0 0" xyz="0.005657 -0.008752 -0.000102"/>
      <mass value="0.591"/>
      <inertia ixx="0.000334008405" ixy="1.0826066e-05" ixz="-1.290732e-06" iyy="0.000619101213" iyz="1.643194e-06" izz="0.00040057614"/>
    </inertial>
  </link>
  <link name="RL_hip_rotor">
    <visual>
      <origin rpy="0 1.5707963267948966 0" xyz="0 0 0"/>
      <geometry>
        <cylinder length="0.02" radius="0.035"/>
      </geometry>
      <material name="green"/>
    </visual>
    <collision>
      <origin rpy="0 1.5707963267948966 0" xyz="0 0 0"/>
      <geometry>
        <cylinder length="0.02" radius="0.035"/>
      </geometry>
    </collision>
    <inertial>
      <origin rpy="0 0 0" xyz="0.0 0.0 0.0"/>
      <mass value="0.089"/>
      <inertia ixx="0.000111842" ixy="0.0" ixz="0.0" iyy="5.9647e-05" iyz="0.0" izz="5.9647e-05"/>
    </inertial>
  </link>
  <joint name="RL_thigh_joint" type="revolute">
    <origin rpy="0 0 0" xyz="0 0.08 0"/>
    <parent link="RL_hip"/>
    <child link="RL_thigh"/>
    <axis xyz="0 1 0"/>
    <dynamics damping="0.0" friction="0.0"/>
    <limit effort="23.7" lower="-0.686" upper="4.501" velocity="30.1"/>
  </joint>
  <joint name="RL_thigh_rotor_joint" type="fixed">
    <origin rpy="0 0 0" xyz="0.0 -0.00015 0"/>
    <parent link="RL_hip"/>
    <child link="RL_thigh_rotor"/>
  </joint>
  <link name="RL_thigh">
    <visual>
      <origin rpy="0 0 0" xyz="0 0 0"/>
      <geometry>
        <mesh filename="package://GO1/meshes/thigh.stl" scale="1 1 1"/>
      </geometry>
      <!-- <material name="orange"/> -->
    </visual>
    <collision>
      <origin rpy="0 1.5707963267948966 0" xyz="0 0 -0.1065"/>
      <geometry>
        <box size="0.213 0.0245 0.034"/>
      </geometry>
    </collision>
    <inertial>
      <origin rpy="0 0 0" xyz="-0.003342 -0.018054 -0.033451"/>
      <mass value="0.92"/>
      <inertia ixx="0.004431760472" ixy="5.7496807e-05" ixz="-0.000218457134" iyy="0.004485671726" iyz="0.000572001265" izz="0.000740309489"/>
    </inertial>
  </link>
  <link name="RL_thigh_rotor">
    <visual>
      <origin rpy="1.5707963267948966 0 0" xyz="0 0 0"/>
      <geometry>
        <cylinder length="0.02" radius="0.035"/>
      </geometry>
      <material name="green"/>
    </visual>
    <collision>
      <origin rpy="1.5707963267948966 0 0" xyz="0 0 0"/>
      <geometry>
        <cylinder length="0.02" radius="0.035"/>
      </geometry>
    </collision>
    <inertial>
      <origin rpy="0 0 0" xyz="0.0 0.0 0.0"/>
      <mass value="0.089"/>
      <inertia ixx="5.9647e-05" ixy="0.0" ixz="0.0" iyy="0.000111842" iyz="0.0" izz="5.9647e-05"/>
    </inertial>
  </link>
  <joint name="RL_calf_joint" type="revolute">
    <origin rpy="0 0 0" xyz="0 0 -0.213"/>
    <parent link="RL_thigh"/>
    <child link="RL_calf"/>
    <axis xyz="0 1 0"/>
    <dynamics damping="0.0" friction="0.0"/>
    <limit effort="35.55" lower="-2.818" upper="-0.888" velocity="20.06"/>
  </joint>
  <joint name="RL_calf_rotor_joint" type="fixed">
    <origin rpy="0 0 0" xyz="0.0 -0.03235 0"/>
    <parent link="RL_thigh"/>
    <child link="RL_calf_rotor"/>
  </joint>
  <link name="RL_calf">
    <visual>
      <origin rpy="0 0 0" xyz="0 0 0"/>
      <geometry>
        <mesh filename="package://GO1/meshes/calf.stl" scale="1 1 1"/>
      </geometry>
      <!-- <material name="orange"/> -->
    </visual>
    <collision>
      <origin rpy="0 1.5707963267948966 0" xyz="0 0 -0.1065"/>
      <geometry>
        <box size="0.213 0.016 0.016"/>
      </geometry>
    </collision>
    <inertial>
      <origin rpy="0 0 0" xyz="0.006197 0.001408 -0.116695"/>
      <mass value="0.135862"/>
      <inertia ixx="0.001088793059" ixy="-2.55679e-07" ixz="7.117814e-06" iyy="0.001100428748" iyz="2.077264e-06" izz="2.4787446e-05"/>
    </inertial>
  </link>
  <link name="RL_calf_rotor">
    <visual>
      <origin rpy="1.5707963267948966 0 0" xyz="0 0 0"/>
      <geometry>
        <cylinder length="0.02" radius="0.035"/>
      </geometry>
      <material name="green"/>
    </visual>
    <collision>
      <origin rpy="1.5707963267948966 0 0" xyz="0 0 0"/>
      <geometry>
        <cylinder length="0.02" radius="0.035"/>
      </geometry>
    </collision>
    <inertial>
      <origin rpy="0 0 0" xyz="0.0 0.0 0.0"/>
      <mass value="0.089"/>
      <inertia ixx="5.9647e-05" ixy="0.0" ixz="0.0" iyy="0.000111842" iyz="0.0" izz="5.9647e-05"/>
    </inertial>
  </link>
  <joint name="RL_foot_fixed" type="fixed">
    <origin rpy="0 0 0" xyz="0 0 -0.213"/>
    <parent link="RL_calf"/>
    <child link="RL_foot"/>
  </joint>
  <link name="RL_foot">
    <visual>
      <origin rpy="0 0 0" xyz="0 0 0"/>
      <geometry>
        <sphere radius="0.01"/>
      </geometry>
      <!-- <material name="orange"/> -->
    </visual>
    <collision>
      <origin rpy="0 0 0" xyz="0 0 0"/>
      <geometry>
        <sphere radius="0.02"/>
      </geometry>
    </collision>
    <inertial>
      <mass value="0.06"/>
      <inertia ixx="9.600000000000001e-06" ixy="0.0" ixz="0.0" iyy="9.600000000000001e-06" iyz="0.0" izz="9.600000000000001e-06"/>
    </inertial>
  </link>
  <transmission name="RL_hip_tran">
    <type>transmission_interface/SimpleTransmission</type>
    <joint name="RL_hip_joint">
      <hardwareInterface>hardware_interface/EffortJointInterface</hardwareInterface>
    </joint>
    <actuator name="RL_hip_motor">
      <hardwareInterface>hardware_interface/EffortJointInterface</hardwareInterface>
      <mechanicalReduction>1</mechanicalReduction>
    </actuator>
  </transmission>
  <transmission name="RL_thigh_tran">
    <type>transmission_interface/SimpleTransmission</type>
    <joint name="RL_thigh_joint">
      <hardwareInterface>hardware_interface/EffortJointInterface</hardwareInterface>
    </joint>
    <actuator name="RL_thigh_motor">
      <hardwareInterface>hardware_interface/EffortJointInterface</hardwareInterface>
      <mechanicalReduction>1</mechanicalReduction>
    </actuator>
  </transmission>
  <transmission name="RL_calf_tran">
    <type>transmission_interface/SimpleTransmission</type>
    <joint name="RL_calf_joint">
      <hardwareInterface>hardware_interface/EffortJointInterface</hardwareInterface>
    </joint>
    <actuator name="RL_calf_motor">
      <hardwareInterface>hardware_interface/EffortJointInterface</hardwareInterface>
      <mechanicalReduction>1</mechanicalReduction>
    </actuator>
  </transmission>
  <joint name="camera_joint_face" type="fixed">
    <origin rpy="3.141592653589793 0 0" xyz="0.2785 0.0125 0.0167"/>
    <parent link="trunk"/>
    <child link="camera_face"/>
  </joint>
  <link name="camera_face">
    <collision>
      <origin rpy="0 0 0" xyz="0 0 0"/>
      <geometry>
        <box size=".001 .001 .001"/>
      </geometry>
    </collision>
    <visual>
      <origin rpy="0 0 0" xyz="0 0 0"/>
      <geometry>
        <mesh filename="package://GO1/meshes/depthCamera.stl" scale="1 1 1"/>
      </geometry>
    </visual>
    <inertial>
      <mass value="1e-5"/>
      <origin rpy="0 0 0" xyz="0 0 0"/>
      <inertia ixx="1e-6" ixy="0" ixz="0" iyy="1e-6" iyz="0" izz="1e-6"/>
    </inertial>
  </link>
  <joint name="camera_optical_joint_face" type="fixed">
    <origin rpy="-1.5707963267948966 0 -1.5707963267948966" xyz="0 0 0"/>
    <parent link="camera_face"/>
    <child link="camera_optical_face"/>
  </joint>
  <link name="camera_optical_face">
        </link>
  <gazebo reference="camera_face">
    <!-- <material>Gazebo/Black</material> -->
    <sensor name="camera_face_camera" type="depth">
      <update_rate>16</update_rate>
      <camera>
        <horizontal_fov>2.094</horizontal_fov>
        <image>
          <width>928</width>
          <height>800</height>
          <format>R8G8B8</format>
        </image>
        <clip>
          <near>0.1</near>
          <far>5</far>
        </clip>
      </camera>
      <plugin filename="libgazebo_ros_openni_kinect.so" name="camera_face_controller">
        <baseline>0.025</baseline>
        <alwaysOn>true</alwaysOn>
        <updateRate>0.0</updateRate>
        <cameraName>camera_face_ir</cameraName>
        <imageTopicName>/camera_face/color/image_raw</imageTopicName>
        <cameraInfoTopicName>/camera_face/color/camera_info</cameraInfoTopicName>
        <depthImageTopicName>/camera_face/depth/image_raw</depthImageTopicName>
        <depthImageInfoTopicName>/camera_face/depth/camera_info</depthImageInfoTopicName>
        <!-- <pointCloudTopicName>/camera_${name}/depth/points</pointCloudTopicName> -->
        <pointCloudTopicName>/cam1/point_cloud_face</pointCloudTopicName>
        <frameName>camera_optical_face</frameName>
        <pointCloudCutoff>0.1</pointCloudCutoff>
        <pointCloudCutoffMax>1.5</pointCloudCutoffMax>
        <distortionK1>0.0</distortionK1>
        <distortionK2>0.0</distortionK2>
        <distortionK3>0.0</distortionK3>
        <distortionT1>0.0</distortionT1>
        <distortionT2>0.0</distortionT2>
        <CxPrime>0</CxPrime>
        <Cx>0.0045</Cx>
        <Cy>0.0039</Cy>
        <focalLength>0</focalLength>
        <hackBaseline>0</hackBaseline>
      </plugin>
    </sensor>
  </gazebo>
  <joint name="camera_joint_chin" type="fixed">
    <origin rpy="3.141592653589793 1.5707963267948966 0" xyz="0.2522 0.0125 -0.0436"/>
    <parent link="trunk"/>
    <child link="camera_chin"/>
  </joint>
  <link name="camera_chin">
    <collision>
      <origin rpy="0 0 0" xyz="0 0 0"/>
      <geometry>
        <box size=".001 .001 .001"/>
      </geometry>
    </collision>
    <visual>
      <origin rpy="0 0 0" xyz="0 0 0"/>
      <geometry>
        <mesh filename="package://GO1/meshes/depthCamera.stl" scale="1 1 1"/>
      </geometry>
    </visual>
    <inertial>
      <mass value="1e-5"/>
      <origin rpy="0 0 0" xyz="0 0 0"/>
      <inertia ixx="1e-6" ixy="0" ixz="0" iyy="1e-6" iyz="0" izz="1e-6"/>
    </inertial>
  </link>
  <joint name="camera_optical_joint_chin" type="fixed">
    <origin rpy="-1.5707963267948966 0 -1.5707963267948966" xyz="0 0 0"/>
    <parent link="camera_chin"/>
    <child link="camera_optical_chin"/>
  </joint>
  <link name="camera_optical_chin">
        </link>
  <gazebo reference="camera_chin">
    <!-- <material>Gazebo/Black</material> -->
    <sensor name="camera_chin_camera" type="depth">
      <update_rate>16</update_rate>
      <camera>
        <horizontal_fov>2.094</horizontal_fov>
        <image>
          <width>928</width>
          <height>800</height>
          <format>R8G8B8</format>
        </image>
        <clip>
          <near>0.1</near>
          <far>5</far>
        </clip>
      </camera>
      <plugin filename="libgazebo_ros_openni_kinect.so" name="camera_chin_controller">
        <baseline>0.025</baseline>
        <alwaysOn>true</alwaysOn>
        <updateRate>0.0</updateRate>
        <cameraName>camera_chin_ir</cameraName>
        <imageTopicName>/camera_chin/color/image_raw</imageTopicName>
        <cameraInfoTopicName>/camera_chin/color/camera_info</cameraInfoTopicName>
        <depthImageTopicName>/camera_chin/depth/image_raw</depthImageTopicName>
        <depthImageInfoTopicName>/camera_chin/depth/camera_info</depthImageInfoTopicName>
        <!-- <pointCloudTopicName>/camera_${name}/depth/points</pointCloudTopicName> -->
        <pointCloudTopicName>/cam2/point_cloud_chin</pointCloudTopicName>
        <frameName>camera_optical_chin</frameName>
        <pointCloudCutoff>0.1</pointCloudCutoff>
        <pointCloudCutoffMax>1.5</pointCloudCutoffMax>
        <distortionK1>0.0</distortionK1>
        <distortionK2>0.0</distortionK2>
        <distortionK3>0.0</distortionK3>
        <distortionT1>0.0</distortionT1>
        <distortionT2>0.0</distortionT2>
        <CxPrime>0</CxPrime>
        <Cx>0.0045</Cx>
        <Cy>0.0039</Cy>
        <focalLength>0</focalLength>
        <hackBaseline>0</hackBaseline>
      </plugin>
    </sensor>
  </gazebo>
  <joint name="camera_joint_left" type="fixed">
    <origin rpy="3.141592653589793 0.2618 1.5707963267948966" xyz="-0.066 0.082 -0.0176"/>
    <parent link="trunk"/>
    <child link="camera_left"/>
  </joint>
  <link name="camera_left">
    <collision>
      <origin rpy="0 0 0" xyz="0 0 0"/>
      <geometry>
        <box size=".001 .001 .001"/>
      </geometry>
    </collision>
    <visual>
      <origin rpy="0 0 0" xyz="0 0 0"/>
      <geometry>
        <mesh filename="package://GO1/meshes/depthCamera.stl" scale="1 1 1"/>
      </geometry>
    </visual>
    <inertial>
      <mass value="1e-5"/>
      <origin rpy="0 0 0" xyz="0 0 0"/>
      <inertia ixx="1e-6" ixy="0" ixz="0" iyy="1e-6" iyz="0" izz="1e-6"/>
    </inertial>
  </link>
  <joint name="camera_optical_joint_left" type="fixed">
    <origin rpy="-1.5707963267948966 0 -1.5707963267948966" xyz="0 0 0"/>
    <parent link="camera_left"/>
    <child link="camera_optical_left"/>
  </joint>
  <link name="camera_optical_left">
        </link>
  <gazebo reference="camera_left">
    <!-- <material>Gazebo/Black</material> -->
    <sensor name="camera_left_camera" type="depth">
      <update_rate>16</update_rate>
      <camera>
        <horizontal_fov>2.094</horizontal_fov>
        <image>
          <width>928</width>
          <height>800</height>
          <format>R8G8B8</format>
        </image>
        <clip>
          <near>0.1</near>
          <far>5</far>
        </clip>
      </camera>
      <plugin filename="libgazebo_ros_openni_kinect.so" name="camera_left_controller">
        <baseline>0.025</baseline>
        <alwaysOn>true</alwaysOn>
        <updateRate>0.0</updateRate>
        <cameraName>camera_left_ir</cameraName>
        <imageTopicName>/camera_left/color/image_raw</imageTopicName>
        <cameraInfoTopicName>/camera_left/color/camera_info</cameraInfoTopicName>
        <depthImageTopicName>/camera_left/depth/image_raw</depthImageTopicName>
        <depthImageInfoTopicName>/camera_left/depth/camera_info</depthImageInfoTopicName>
        <!-- <pointCloudTopicName>/camera_${name}/depth/points</pointCloudTopicName> -->
        <pointCloudTopicName>/cam3/point_cloud_left</pointCloudTopicName>
        <frameName>camera_optical_left</frameName>
        <pointCloudCutoff>0.1</pointCloudCutoff>
        <pointCloudCutoffMax>1.5</pointCloudCutoffMax>
        <distortionK1>0.0</distortionK1>
        <distortionK2>0.0</distortionK2>
        <distortionK3>0.0</distortionK3>
        <distortionT1>0.0</distortionT1>
        <distortionT2>0.0</distortionT2>
        <CxPrime>0</CxPrime>
        <Cx>0.0045</Cx>
        <Cy>0.0039</Cy>
        <focalLength>0</focalLength>
        <hackBaseline>0</hackBaseline>
      </plugin>
    </sensor>
  </gazebo>
  <joint name="camera_joint_right" type="fixed">
    <origin rpy="3.141592653589793 0.2618 -1.5707963267948966" xyz="-0.041 -0.082 -0.0176"/>
    <parent link="trunk"/>
    <child link="camera_right"/>
  </joint>
  <link name="camera_right">
    <collision>
      <origin rpy="0 0 0" xyz="0 0 0"/>
      <geometry>
        <box size=".001 .001 .001"/>
      </geometry>
    </collision>
    <visual>
      <origin rpy="0 0 0" xyz="0 0 0"/>
      <geometry>
        <mesh filename="package://GO1/meshes/depthCamera.stl" scale="1 1 1"/>
      </geometry>
    </visual>
    <inertial>
      <mass value="1e-5"/>
      <origin rpy="0 0 0" xyz="0 0 0"/>
      <inertia ixx="1e-6" ixy="0" ixz="0" iyy="1e-6" iyz="0" izz="1e-6"/>
    </inertial>
  </link>
  <joint name="camera_optical_joint_right" type="fixed">
    <origin rpy="-1.5707963267948966 0 -1.5707963267948966" xyz="0 0 0"/>
    <parent link="camera_right"/>
    <child link="camera_optical_right"/>
  </joint>
  <link name="camera_optical_right">
        </link>
  <gazebo reference="camera_right">
    <!-- <material>Gazebo/Black</material> -->
    <sensor name="camera_right_camera" type="depth">
      <update_rate>16</update_rate>
      <camera>
        <horizontal_fov>2.094</horizontal_fov>
        <image>
          <width>928</width>
          <height>800</height>
          <format>R8G8B8</format>
        </image>
        <clip>
          <near>0.1</near>
          <far>5</far>
        </clip>
      </camera>
      <plugin filename="libgazebo_ros_openni_kinect.so" name="camera_right_controller">
        <baseline>0.025</baseline>
        <alwaysOn>true</alwaysOn>
        <updateRate>0.0</updateRate>
        <cameraName>camera_right_ir</cameraName>
        <imageTopicName>/camera_right/color/image_raw</imageTopicName>
        <cameraInfoTopicName>/camera_right/color/camera_info</cameraInfoTopicName>
        <depthImageTopicName>/camera_right/depth/image_raw</depthImageTopicName>
        <depthImageInfoTopicName>/camera_right/depth/camera_info</depthImageInfoTopicName>
        <!-- <pointCloudTopicName>/camera_${name}/depth/points</pointCloudTopicName> -->
        <pointCloudTopicName>/cam4/point_cloud_right</pointCloudTopicName>
        <frameName>camera_optical_right</frameName>
        <pointCloudCutoff>0.1</pointCloudCutoff>
        <pointCloudCutoffMax>1.5</pointCloudCutoffMax>
        <distortionK1>0.0</distortionK1>
        <distortionK2>0.0</distortionK2>
        <distortionK3>0.0</distortionK3>
        <distortionT1>0.0</distortionT1>
        <distortionT2>0.0</distortionT2>
        <CxPrime>0</CxPrime>
        <Cx>0.0045</Cx>
        <Cy>0.0039</Cy>
        <focalLength>0</focalLength>
        <hackBaseline>0</hackBaseline>
      </plugin>
    </sensor>
  </gazebo>
  <joint name="camera_joint_rearDown" type="fixed">
    <origin rpy="3.141592653589793 1.5707963267948966 0" xyz="-0.0825 0.0125 -0.04365"/>
    <parent link="trunk"/>
    <child link="camera_rearDown"/>
  </joint>
  <link name="camera_rearDown">
    <collision>
      <origin rpy="0 0 0" xyz="0 0 0"/>
      <geometry>
        <box size=".001 .001 .001"/>
      </geometry>
    </collision>
    <visual>
      <origin rpy="0 0 0" xyz="0 0 0"/>
      <geometry>
        <mesh filename="package://GO1/meshes/depthCamera.stl" scale="1 1 1"/>
      </geometry>
    </visual>
    <inertial>
      <mass value="1e-5"/>
      <origin rpy="0 0 0" xyz="0 0 0"/>
      <inertia ixx="1e-6" ixy="0" ixz="0" iyy="1e-6" iyz="0" izz="1e-6"/>
    </inertial>
  </link>
  <joint name="camera_optical_joint_rearDown" type="fixed">
    <origin rpy="-1.5707963267948966 0 -1.5707963267948966" xyz="0 0 0"/>
    <parent link="camera_rearDown"/>
    <child link="camera_optical_rearDown"/>
  </joint>
  <link name="camera_optical_rearDown">
        </link>
  <gazebo reference="camera_rearDown">
    <!-- <material>Gazebo/Black</material> -->
    <sensor name="camera_rearDown_camera" type="depth">
      <update_rate>16</update_rate>
      <camera>
        <horizontal_fov>2.094</horizontal_fov>
        <image>
          <width>928</width>
          <height>800</height>
          <format>R8G8B8</format>
        </image>
        <clip>
          <near>0.1</near>
          <far>5</far>
        </clip>
      </camera>
      <plugin filename="libgazebo_ros_openni_kinect.so" name="camera_rearDown_controller">
        <baseline>0.025</baseline>
        <alwaysOn>true</alwaysOn>
        <updateRate>0.0</updateRate>
        <cameraName>camera_rearDown_ir</cameraName>
        <imageTopicName>/camera_rearDown/color/image_raw</imageTopicName>
        <cameraInfoTopicName>/camera_rearDown/color/camera_info</cameraInfoTopicName>
        <depthImageTopicName>/camera_rearDown/depth/image_raw</depthImageTopicName>
        <depthImageInfoTopicName>/camera_rearDown/depth/camera_info</depthImageInfoTopicName>
        <!-- <pointCloudTopicName>/camera_${name}/depth/points</pointCloudTopicName> -->
        <pointCloudTopicName>/cam5/point_cloud_rearDown</pointCloudTopicName>
        <frameName>camera_optical_rearDown</frameName>
        <pointCloudCutoff>0.1</pointCloudCutoff>
        <pointCloudCutoffMax>1.5</pointCloudCutoffMax>
        <distortionK1>0.0</distortionK1>
        <distortionK2>0.0</distortionK2>
        <distortionK3>0.0</distortionK3>
        <distortionT1>0.0</distortionT1>
        <distortionT2>0.0</distortionT2>
        <CxPrime>0</CxPrime>
        <Cx>0.0045</Cx>
        <Cy>0.0039</Cy>
        <focalLength>0</focalLength>
        <hackBaseline>0</hackBaseline>
      </plugin>
    </sensor>
  </gazebo>
  <joint name="camera_laserscan_joint_left" type="fixed">
    <origin rpy="0 0.2618 0" xyz="0 0 0"/>
    <parent link="camera_left"/>
    <child link="camera_laserscan_link_left"/>
  </joint>
  <link name="camera_laserscan_link_left">
    </link>
  <joint name="camera_laserscan_joint_right" type="fixed">
    <origin rpy="0 0.2618 0" xyz="0 0 0"/>
    <parent link="camera_right"/>
    <child link="camera_laserscan_link_right"/>
  </joint>
  <link name="camera_laserscan_link_right">
    </link>
  <joint name="ultraSound_joint_left" type="fixed">
    <origin rpy="0 0.2618 1.5707963267948966" xyz="-0.0535  0.0826 0.00868"/>
    <parent link="trunk"/>
    <child link="ultraSound_left"/>
  </joint>
  <link name="ultraSound_left">
    <collision>
      <origin rpy="0 0 0" xyz="0 0 0"/>
      <geometry>
        <box size=".001 .001 .001"/>
      </geometry>
    </collision>
    <visual>
      <origin rpy="0 0 0" xyz="0 0 0"/>
      <geometry>
        <mesh filename="package://GO1/meshes/ultraSound.stl" scale="1 1 1"/>
      </geometry>
      <material name="black"/>
    </visual>
    <inertial>
      <mass value="1e-5"/>
      <origin rpy="0 0 0" xyz="0 0 0"/>
      <inertia ixx="1e-6" ixy="0" ixz="0" iyy="1e-6" iyz="0" izz="1e-6"/>
    </inertial>
  </link>
  <joint name="ultraSound_joint_right" type="fixed">
    <origin rpy="0 0.2618 -1.5707963267948966" xyz="-0.0535 -0.0826 0.00868"/>
    <parent link="trunk"/>
    <child link="ultraSound_right"/>
  </joint>
  <link name="ultraSound_right">
    <collision>
      <origin rpy="0 0 0" xyz="0 0 0"/>
      <geometry>
        <box size=".001 .001 .001"/>
      </geometry>
    </collision>
    <visual>
      <origin rpy="0 0 0" xyz="0 0 0"/>
      <geometry>
        <mesh filename="package://GO1/meshes/ultraSound.stl" scale="1 1 1"/>
      </geometry>
      <material name="black"/>
    </visual>
    <inertial>
      <mass value="1e-5"/>
      <origin rpy="0 0 0" xyz="0 0 0"/>
      <inertia ixx="1e-6" ixy="0" ixz="0" iyy="1e-6" iyz="0" izz="1e-6"/>
    </inertial>
  </link>
  <joint name="ultraSound_joint_face" type="fixed">
    <origin rpy="0 0 0" xyz="0.2747 0.0 -0.0088"/>
    <parent link="trunk"/>
    <child link="ultraSound_face"/>
  </joint>
  <link name="ultraSound_face">
    <collision>
      <origin rpy="0 0 0" xyz="0 0 0"/>
      <geometry>
        <box size=".001 .001 .001"/>
      </geometry>
    </collision>
    <visual>
      <origin rpy="0 0 0" xyz="0 0 0"/>
      <geometry>
        <mesh filename="package://GO1/meshes/ultraSound.stl" scale="1 1 1"/>
      </geometry>
      <material name="black"/>
    </visual>
    <inertial>
      <mass value="1e-5"/>
      <origin rpy="0 0 0" xyz="0 0 0"/>
      <inertia ixx="1e-6" ixy="0" ixz="0" iyy="1e-6" iyz="0" izz="1e-6"/>
    </inertial>
  </link>
</robot>
